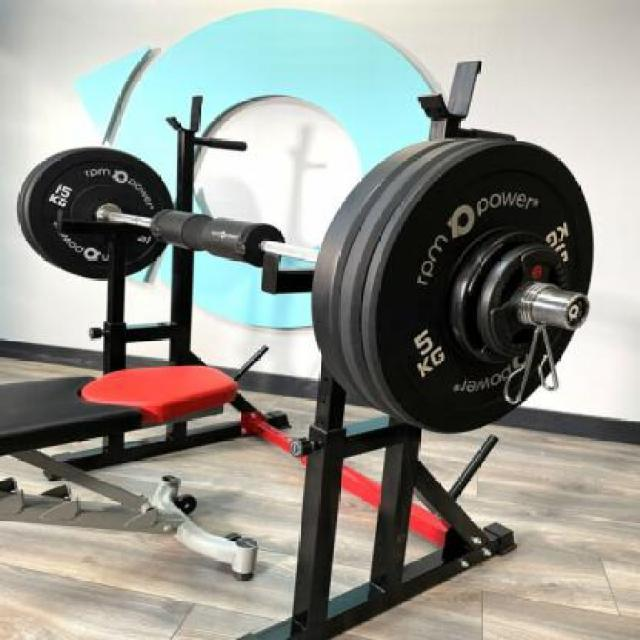Barbell: (562, 289, 592, 331)
